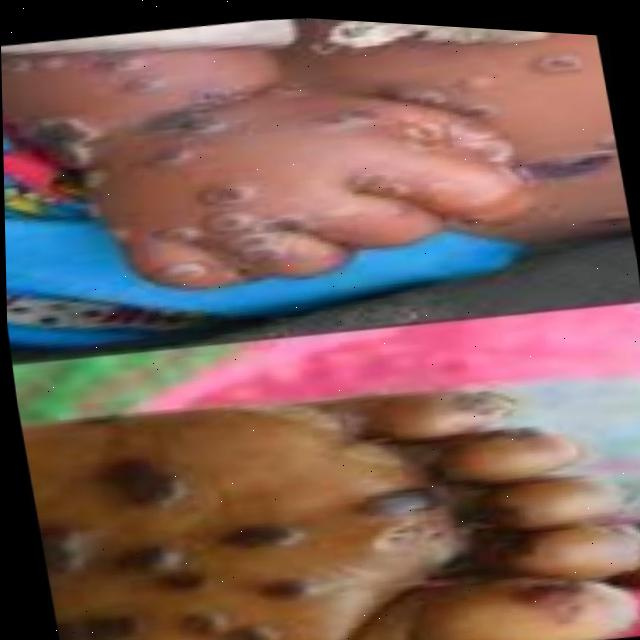Eczema: (80, 18, 448, 332), (24, 426, 526, 640)
